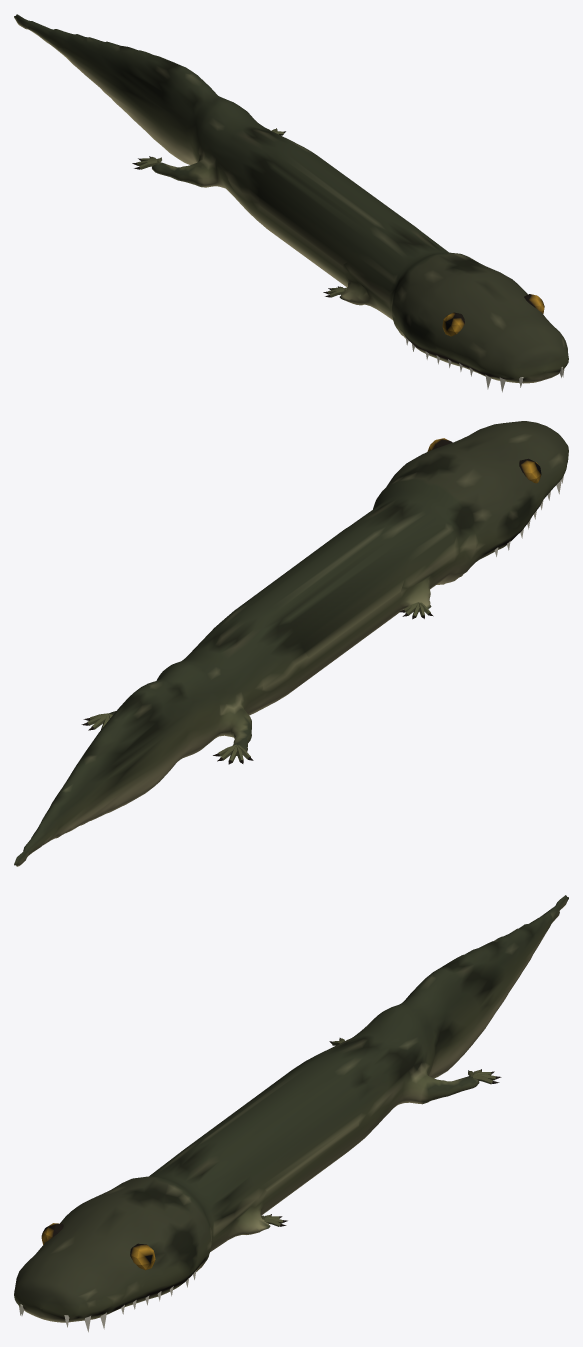
Rendered from Crassigyrinus.fbx.
The picture shows the model from 3 angles, top to bottom: view 1: azimuth 30°, elevation 25°; view 2: azimuth 150°, elevation 25°; view 3: azimuth 330°, elevation 25°; orthographic projection. The views are drawn at different scales.
Parts seen in each view (by area): view 1: Crassigyrinus; view 2: Crassigyrinus; view 3: Crassigyrinus.
Part boxes in pixels (x1,y1,x2,y2): Crassigyrinus: (14,14,568,392); Crassigyrinus: (14,421,568,866); Crassigyrinus: (14,895,568,1332).
Bounding box in the file's own units: 0.2253 × 0.1299 × 1.28.
